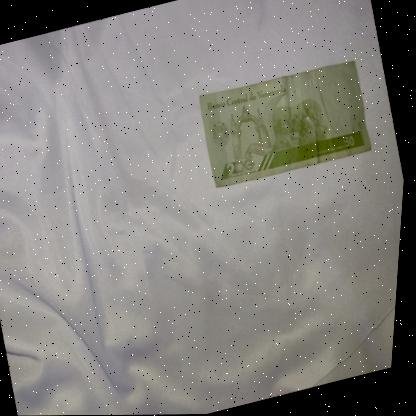fifty-back-vef: (194, 55, 381, 191)
